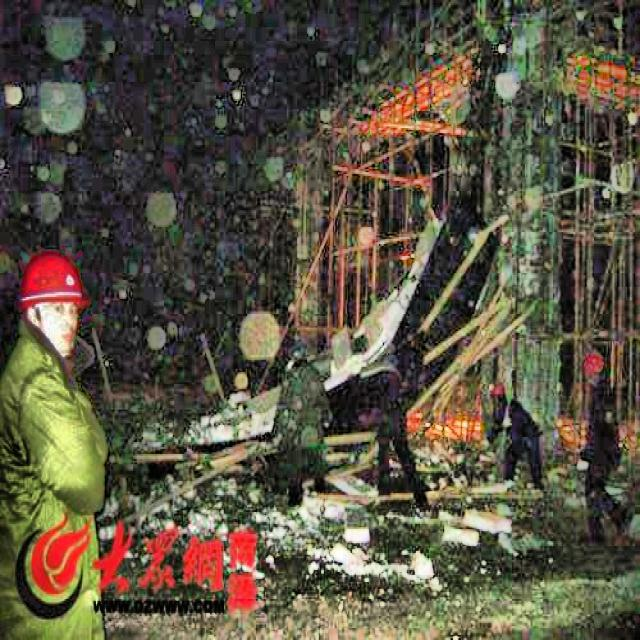helmet: (15, 248, 90, 358)
